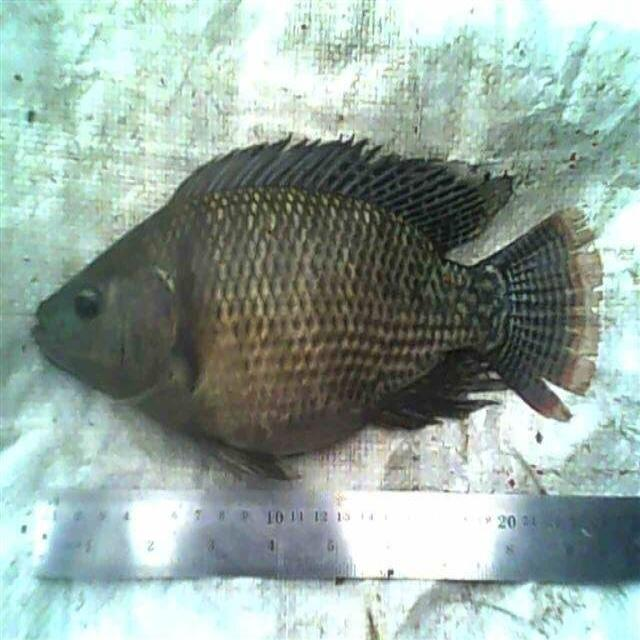ikan: (14, 112, 618, 498)
